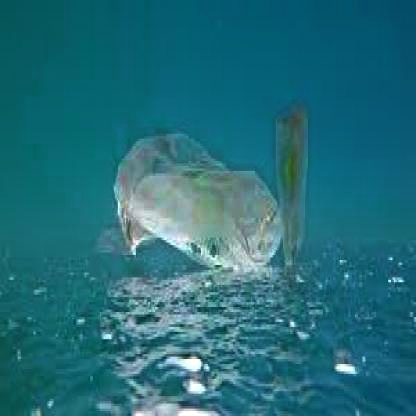pbag: (108, 124, 284, 285), (269, 99, 315, 290)
